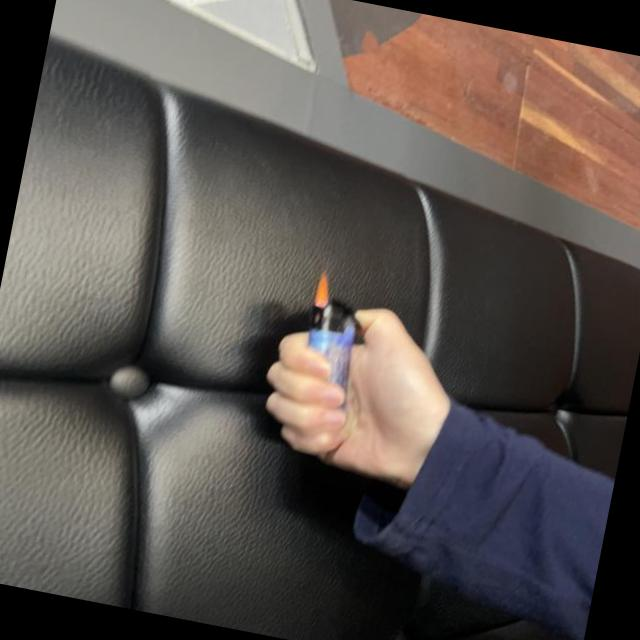Fire: (311, 268, 336, 312)
